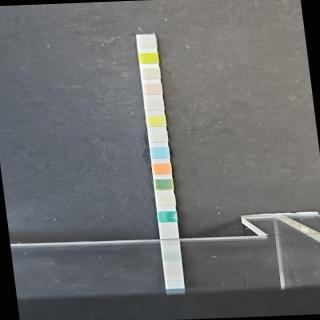mark: (144, 99, 164, 112), (140, 68, 161, 80), (136, 38, 156, 50), (150, 148, 170, 160), (152, 163, 172, 175), (138, 54, 157, 66), (149, 132, 168, 144), (157, 196, 176, 208), (142, 84, 162, 95), (146, 115, 166, 126), (157, 211, 177, 222), (155, 179, 173, 190)
